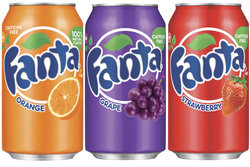Fanta: (1, 2, 84, 158)
